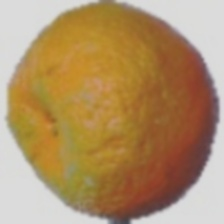tangerine: (32, 13, 177, 180)
